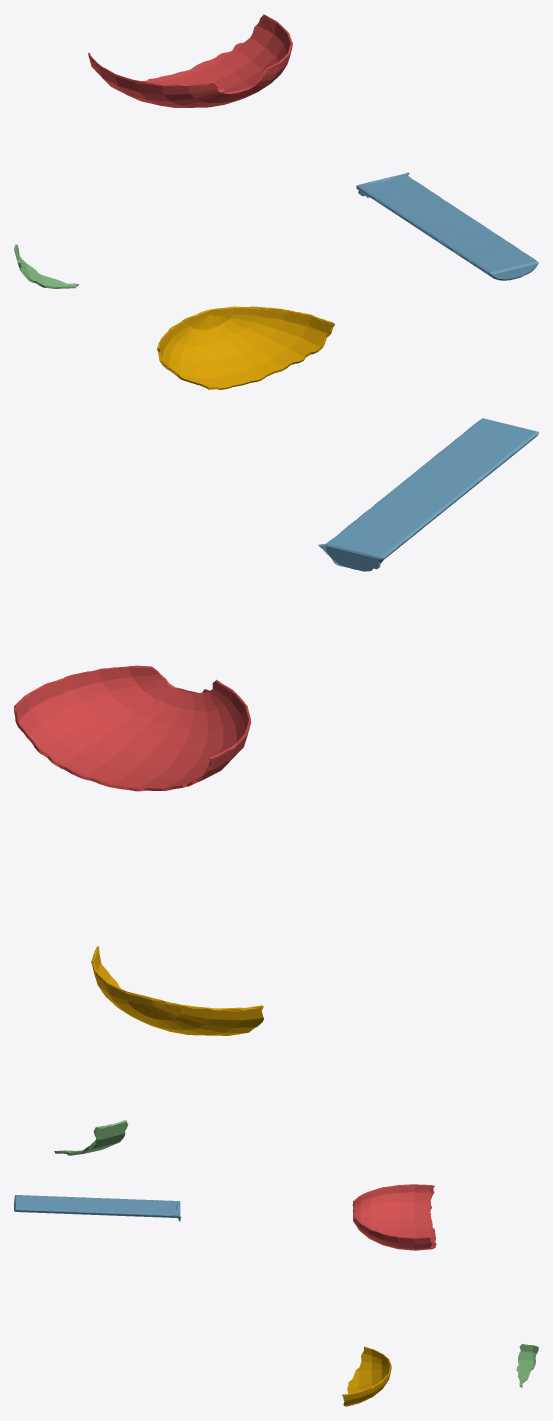
Rendered from mode_4_4pcs_transformed.glb.
The picture shows the model from 3 angles, top to bottom: view 1: azimuth 30°, elevation 25°; view 2: azimuth 150°, elevation 25°; view 3: azimuth 270°, elevation 25°; orthographic projection. The views are drawn at different scales.
Visible parts, largest first — view 1: piece_0.obj, piece_1.obj, piece_2.obj, piece_3.obj; view 2: piece_1.obj, piece_2.obj, piece_0.obj, piece_3.obj; view 3: piece_1.obj, piece_2.obj, piece_0.obj, piece_3.obj.
Boxes of the visible parts, x1,y1,x2,y2 form: piece_0.obj: (157,306,334,389); piece_1.obj: (88,14,292,107); piece_2.obj: (356,172,538,280); piece_3.obj: (14,244,78,288); piece_1.obj: (14,665,251,791); piece_2.obj: (318,418,538,571); piece_0.obj: (91,946,263,1035); piece_3.obj: (54,1120,128,1155); piece_1.obj: (352,1184,436,1250); piece_2.obj: (14,1195,181,1221); piece_0.obj: (342,1346,391,1406); piece_3.obj: (516,1344,538,1387).
Size of the model in its own units: 0.4374 by 0.7383 by 1.81.
